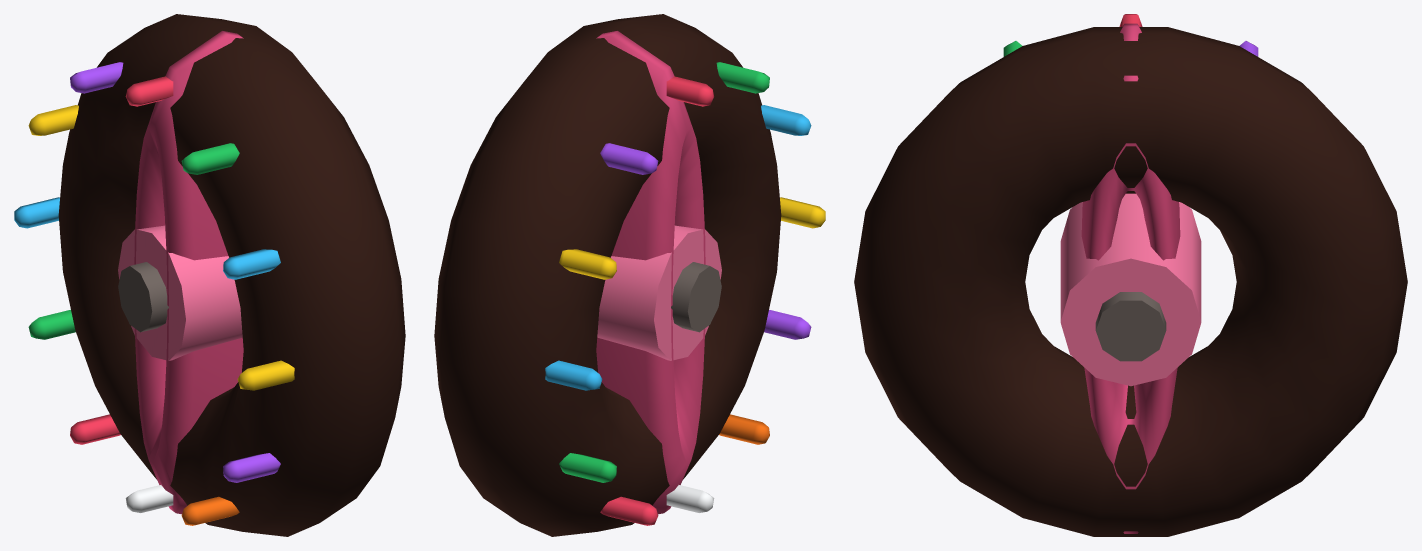
3 renders of one model, left to right at view 1: azimuth 30°, elevation 25°; view 2: azimuth 150°, elevation 25°; view 3: azimuth 270°, elevation 25°, orthographic. The views are drawn at different scales.
Visible parts, largest first — view 1: LP14_Wheel_RL_Part_01; view 2: LP14_Wheel_RL_Part_01; view 3: LP14_Wheel_RL_Part_01.
Part boxes in pixels (bbox=[...]): LP14_Wheel_RL_Part_01: bbox=[14, 14, 405, 536]; LP14_Wheel_RL_Part_01: bbox=[434, 14, 825, 536]; LP14_Wheel_RL_Part_01: bbox=[854, 14, 1407, 536].
Size of the model in its own units: 0.4345 by 1 by 0.9958.
